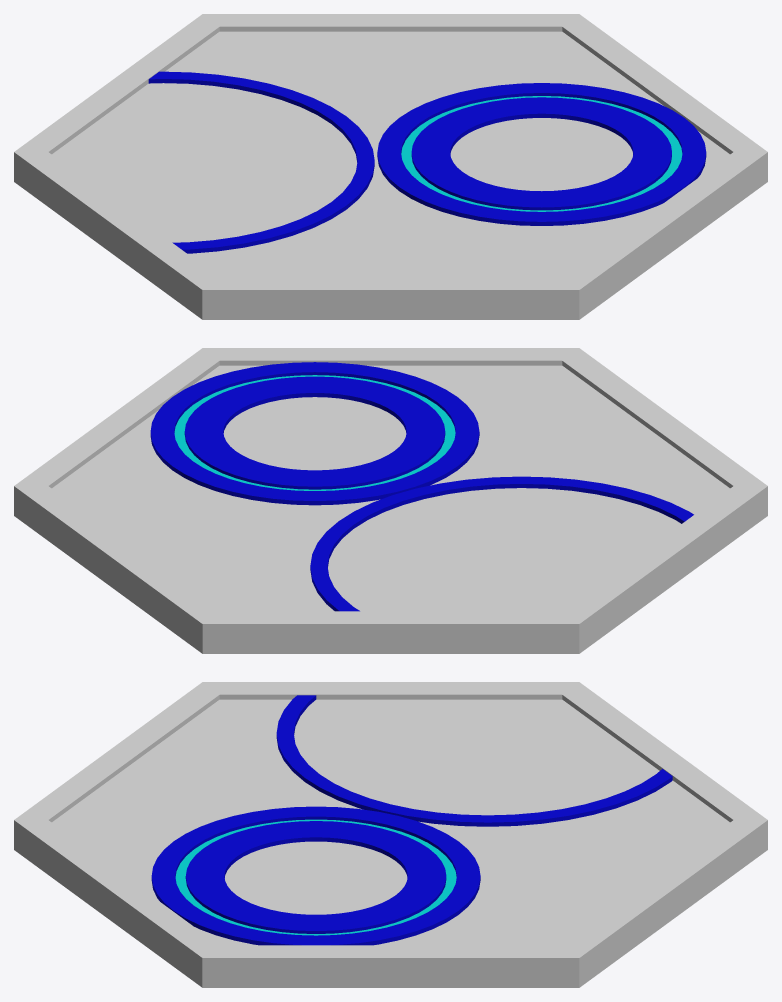
Rendered from placas_civi7.fbx.
The picture shows the model from 3 angles, top to bottom: view 1: azimuth 30°, elevation 25°; view 2: azimuth 150°, elevation 25°; view 3: azimuth 270°, elevation 25°; orthographic projection.
Visible parts, largest first — view 1: placa_base_low, placa7_low; view 2: placa_base_low, placa7_low; view 3: placa_base_low, placa7_low.
Boxes of the visible parts, box(x1,y1,x2,y2) form: placa_base_low: box(14, 14, 767, 319); placa7_low: box(148, 71, 706, 253); placa_base_low: box(14, 348, 767, 653); placa7_low: box(150, 362, 693, 611); placa_base_low: box(14, 682, 767, 987); placa7_low: box(151, 695, 672, 945).
Size of the model in its own units: 346 by 17.47 by 400.
